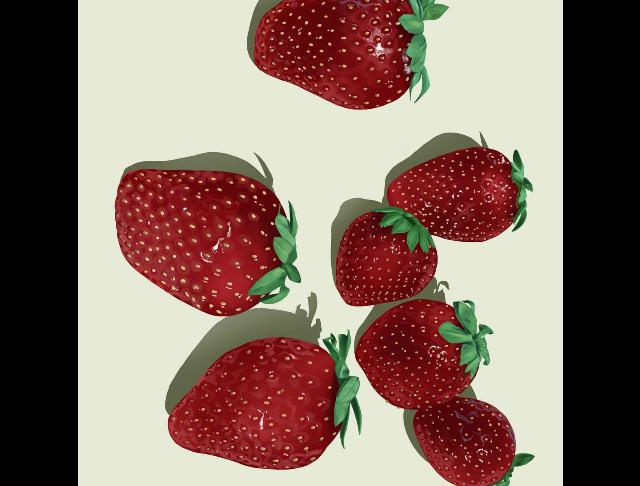Strawberries: (114, 168, 294, 316), (169, 336, 361, 468), (251, 0, 426, 109), (357, 300, 488, 404), (385, 147, 525, 243), (336, 210, 438, 306), (412, 397, 519, 486)
